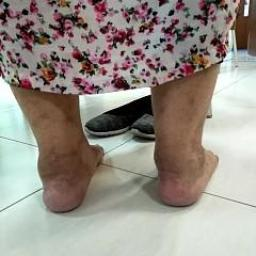Back View -Both Feet-: (12, 102, 232, 223)
